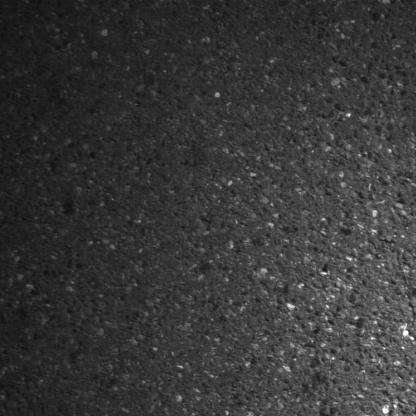Cracks: (385, 242, 416, 416)
